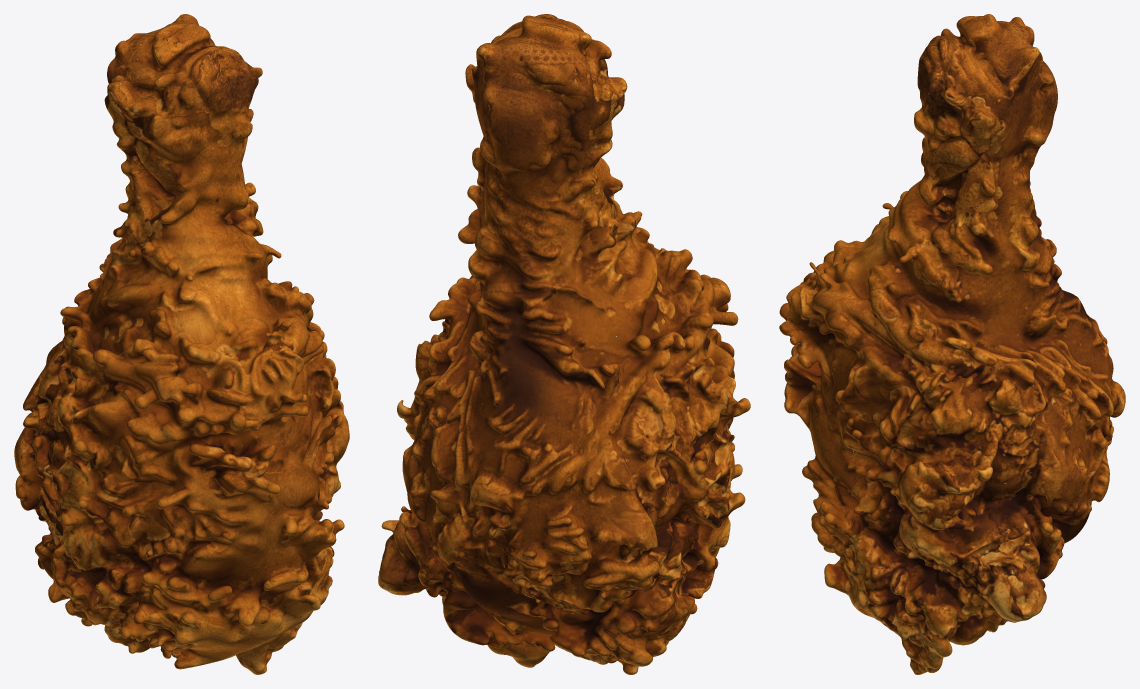
File: drumstick.glb
3 renders of one model, left to right at view 1: azimuth 30°, elevation 25°; view 2: azimuth 150°, elevation 25°; view 3: azimuth 270°, elevation 25°, orthographic. The views are drawn at different scales.
Parts seen in each view (by area): view 1: Object_5; view 2: Object_5; view 3: Object_5.
Boxes of the visible parts, x1,y1,x2,y2 form: Object_5: (14, 14, 349, 674); Object_5: (378, 14, 750, 674); Object_5: (779, 14, 1125, 674).
Bounding box in the file's own units: 0.5387 × 1.12 × 0.5594.
Materials: 1 (1 with a texture image).
